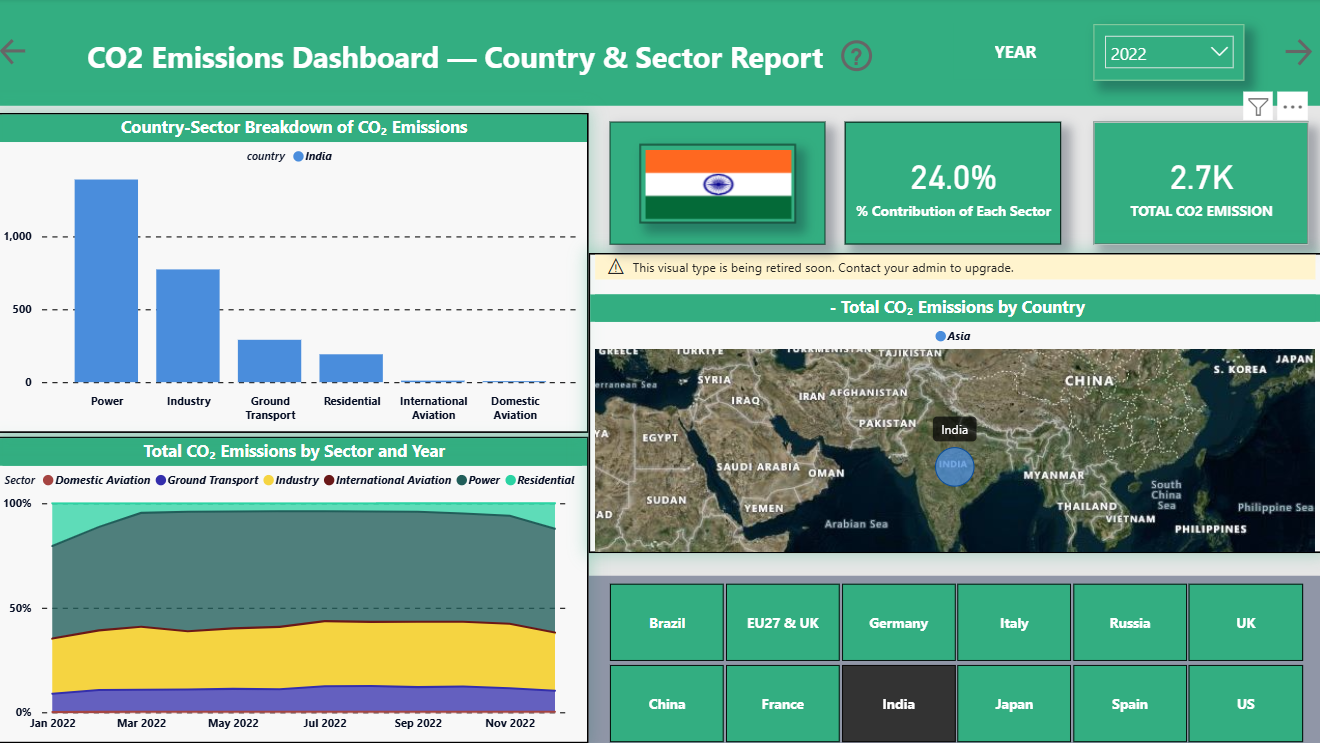

Layout of this report page (visuals, bound fields, positions):
{"tool":"powerbi","page":{"name":"Country -sector ","canvas":[1280,720],"ordinal":0},"visuals":[{"type":"shape","box":[0,0,1280,104.3],"z":0},{"type":"card","fields":{"Values":["Measure Table.Sector % Contribution"]},"box":[819.2,119.4,208.7,118.2],"z":1000},{"type":"shape","box":[592.4,119.4,208,118.6],"z":2000,"group":"g1"},{"type":"shape","box":[924.1,24.1,119.4,54.3],"z":2000},{"type":"slicer","fields":{"Values":["Table1.date.Variation.Date Hierarchy.Year"]},"box":[1059.3,25.3,146,54.3],"z":3000},{"type":"hundredPercentStackedAreaChart","title":"Total CO₂ Emissions by Sector and Year","fields":{"Y":["Measure Table.TOTAL CO2 EMISSION"],"Category":["Table1.date.Variation.Date Hierarchy.Year","Table1.date.Variation.Date Hierarchy.Month"],"Series":["Table1.sector"]},"box":[0,424,572,296],"z":4000},{"type":"clusteredColumnChart","title":"Country-Sector Breakdown of CO₂ Emissions","fields":{"Category":["Table1.sector"],"Series":["Table1.country"],"Y":["Measure Table.TOTAL CO2 EMISSION"]},"box":[0,111,571.9,308.8],"z":5000},{"type":"card","fields":{"Values":["Measure Table.TOTAL CO2 EMISSION"]},"box":[1059.3,119.4,207.5,118.2],"z":6000},{"type":"map","title":"- Total CO₂ Emissions by Country","fields":{"Category":["Table1.country"],"Size":["Measure Table.TOTAL CO2 EMISSION"],"Series":["C02 EMISSION_DATA.Continent"]},"box":[571.9,246.1,708.2,289.5],"z":7000},{"type":"group","id":"g1","title":"Group 2","box":[592.4,119.4,208,118.6],"z":8000},{"type":"actionButton","box":[810.7,35,39.8,41],"z":9000},{"type":"slicer","fields":{"Values":["C02 EMISSION_DATA.country"]},"box":[571.9,557.4,708.2,162.9],"z":10000},{"type":"actionButton","box":[1239,35,41,35],"z":11000},{"type":"actionButton","box":[0,35,41,33.8],"z":12000},{"type":"simpleImageEBC4593F96F1425FB3D84C5BF02B5075","fields":{"imageURL":["COUNTRY FLAG.Flag URL"],"altText":["C02 EMISSION_DATA.country"]},"box":[612.5,135.8,162.9,88.1],"z":15000,"group":"g1"}]}

Visuals, with their boxes in screenshot pixels (x1, y1, x2, y2), scaled from the page's 1280x720 canvas onto the 1320x743 screenshot:
shape: (0, 0, 1319, 108)
card - Measure Table.Sector % Contribution: (845, 123, 1060, 245)
shape: (611, 123, 825, 246)
shape: (953, 25, 1076, 81)
slicer - Table1.date.Variation.Date Hierarchy.Year: (1092, 26, 1243, 82)
"Total CO₂ Emissions by Sector and Year" hundredPercentStackedAreaChart: (0, 438, 590, 742)
"Country-Sector Breakdown of CO₂ Emissions" clusteredColumnChart: (0, 115, 590, 433)
card - Measure Table.TOTAL CO2 EMISSION: (1092, 123, 1306, 245)
"- Total CO₂ Emissions by Country" map: (590, 254, 1319, 553)
"Group 2" group: (611, 123, 825, 246)
actionButton: (836, 36, 877, 78)
slicer - C02 EMISSION_DATA.country: (590, 575, 1319, 742)
actionButton: (1278, 36, 1319, 72)
actionButton: (0, 36, 42, 71)
simpleImageEBC4593F96F1425FB3D84C5BF02B5075 - COUNTRY FLAG.Flag URL x C02 EMISSION_DATA.country: (632, 140, 800, 231)
